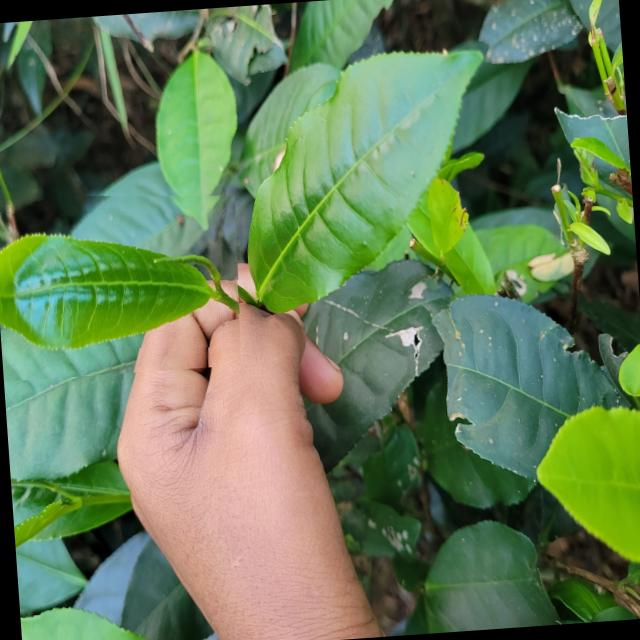Catagory A(1-2 days): (0, 178, 245, 380)
